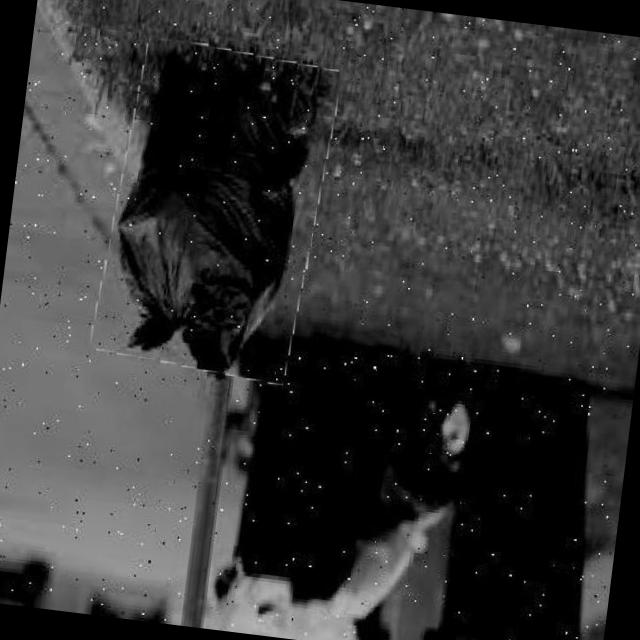KantongPlastik: (97, 38, 325, 388)
